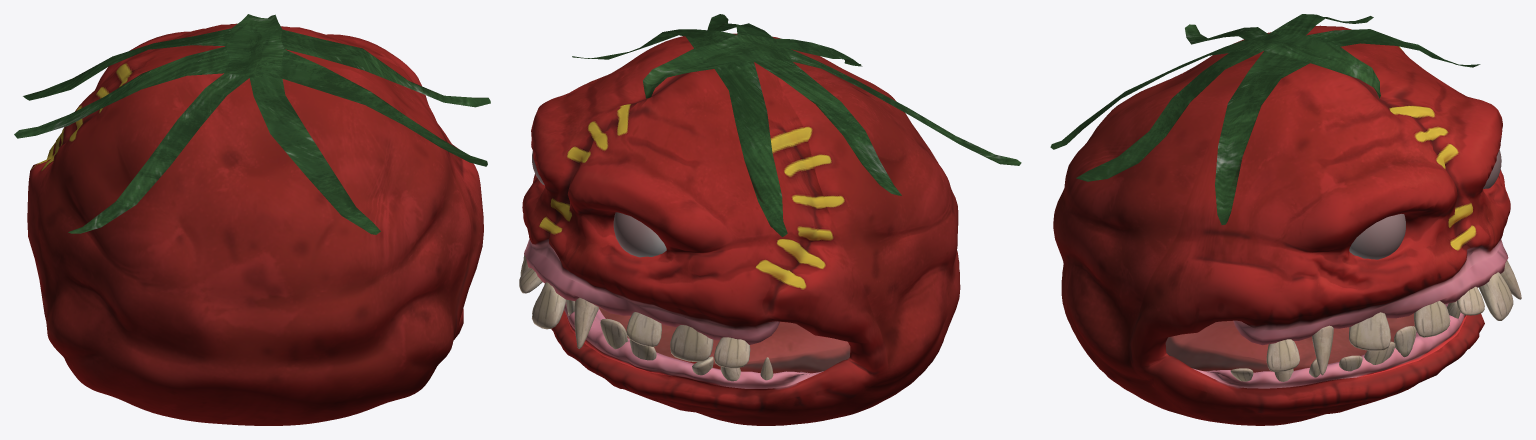
Rendered from killer_tomato.glb.
3 views of the same model, side by side, from view 1: azimuth 30°, elevation 25°; view 2: azimuth 150°, elevation 25°; view 3: azimuth 270°, elevation 25° (orthographic).
Visible parts, largest first — view 1: Tomato; view 2: Tomato, Left Eye; view 3: Tomato, Right Eye.
Boxes of the visible parts, bbox=[...] form: Tomato: bbox=[14, 14, 490, 425]; Tomato: bbox=[519, 14, 1021, 425]; Left Eye: bbox=[613, 212, 666, 257]; Tomato: bbox=[1050, 14, 1521, 425]; Right Eye: bbox=[1349, 214, 1405, 259].
Size of the model in its own units: 2.37 by 1.76 by 2.2.
1 material, 1 textured.
